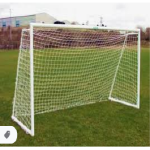goals: (11, 23, 141, 137)
